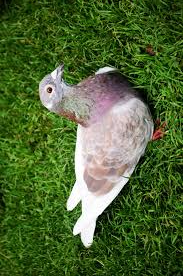pigeon: (36, 61, 169, 249)
